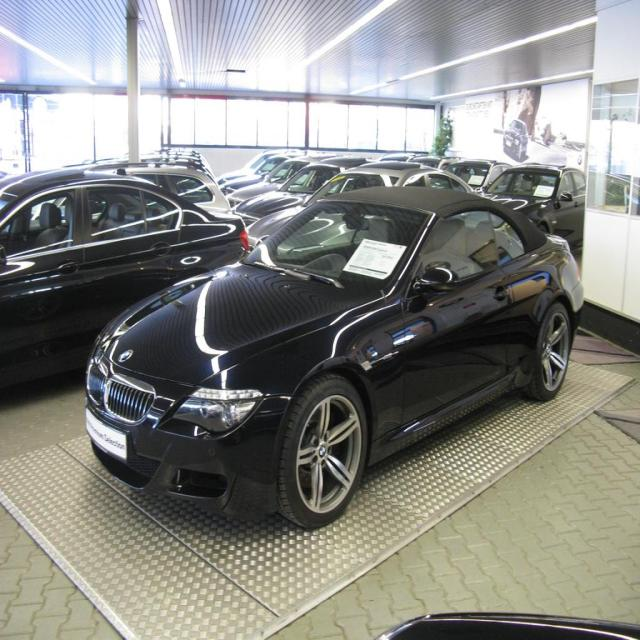car: (77, 167, 563, 538), (0, 154, 254, 394), (220, 149, 581, 249), (371, 606, 639, 638)
